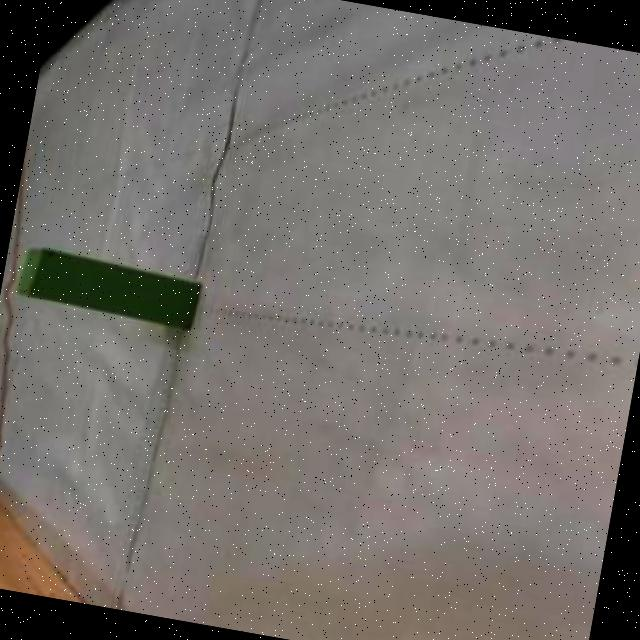greenbox: (18, 247, 205, 330)
